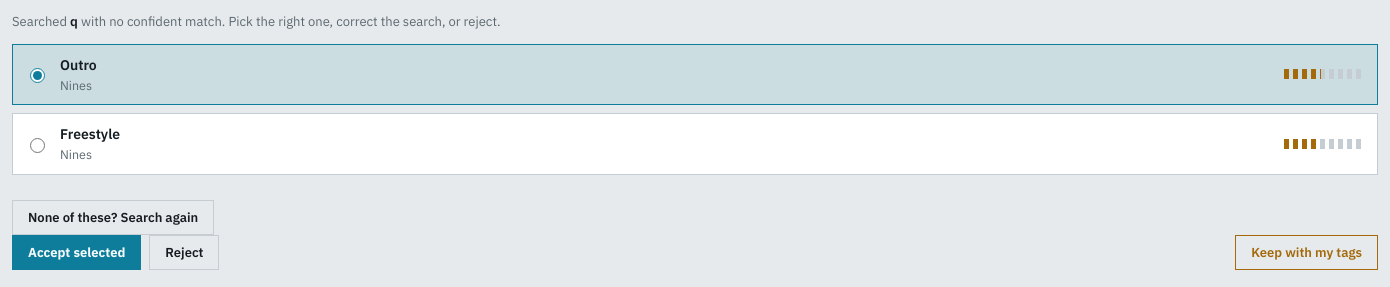
keep-untagged — landing with manual tags › opens the form and hides the candidate list
Click the button "Keep with my tags" at [1307, 252], box [1235,235,1378,270]
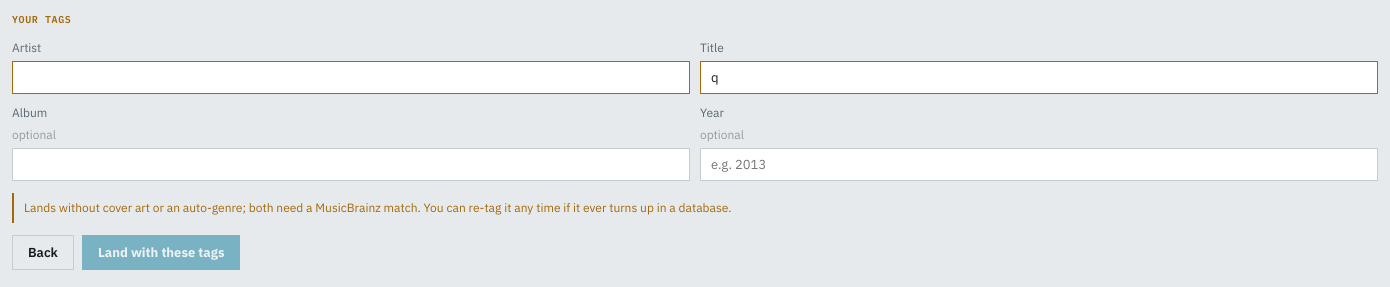
Expected: the text "Your tags" is shown, [12,13,71,26]
Expected: the button "Land with these tags" is shown, [82,235,240,270]
